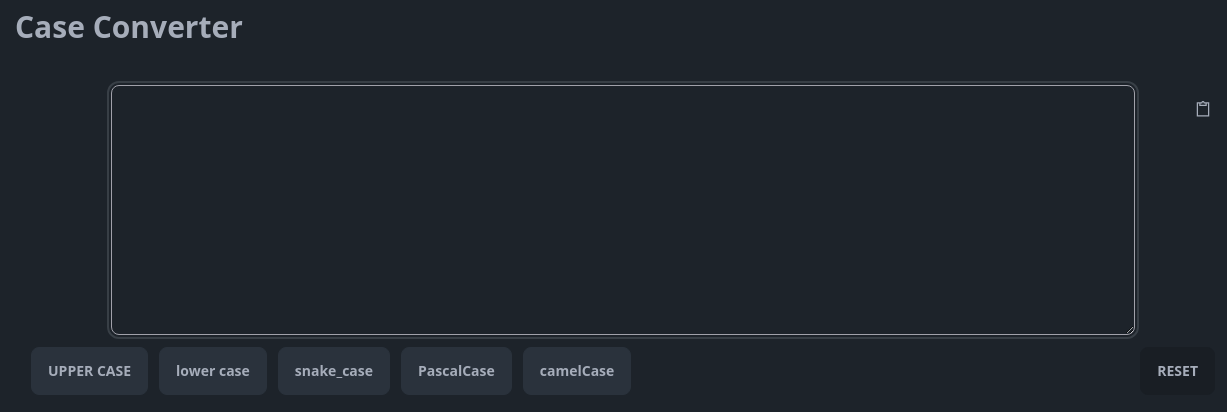
Test: App › transforms the textarea value to snake case when 'snake_case' button is clicked
Type "This Is A Mock Sentence With Ten Words Exactly" into the text box at {"x": 623, "y": 210}, box [111,85,1135,335]
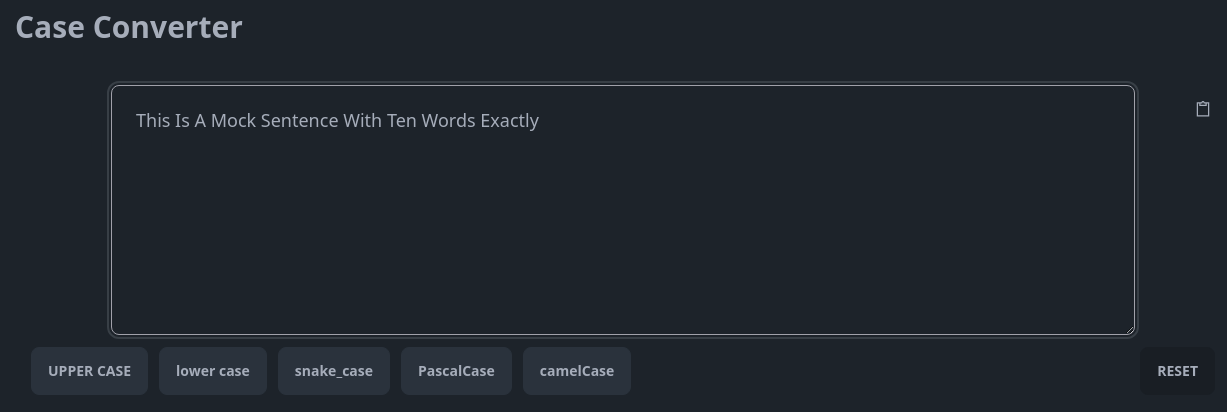
Click the button "snake_case" at {"x": 334, "y": 371}, box [278,347,390,395]
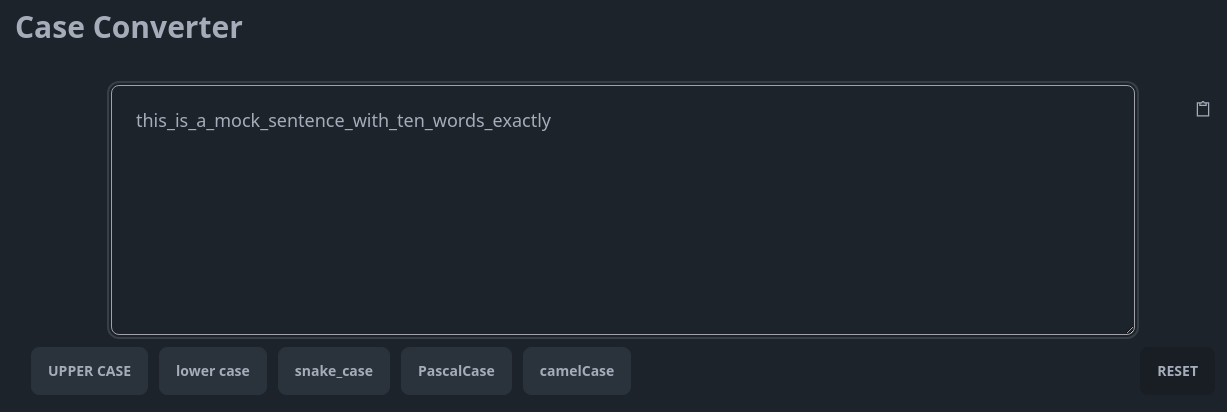
Check: the text box holds "this_is_a_mock_sentence_with_ten_words_exactly", box [111,85,1135,335]
